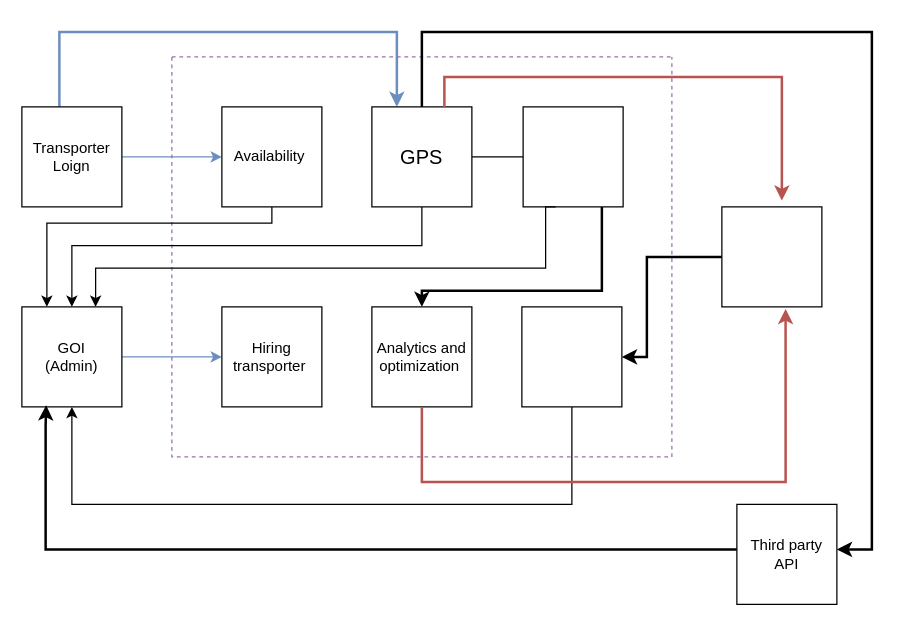
Some shapes in this 905 by 626 pixel diagram are drawn without their labels. Here are the shapes that lost their labels. From the top down, the centre of each, then its label:
At (x=572, y=156): "Monitoring devices(cameras , sensors)".
At (x=771, y=256): "User login".
At (x=571, y=356): "Demand".
